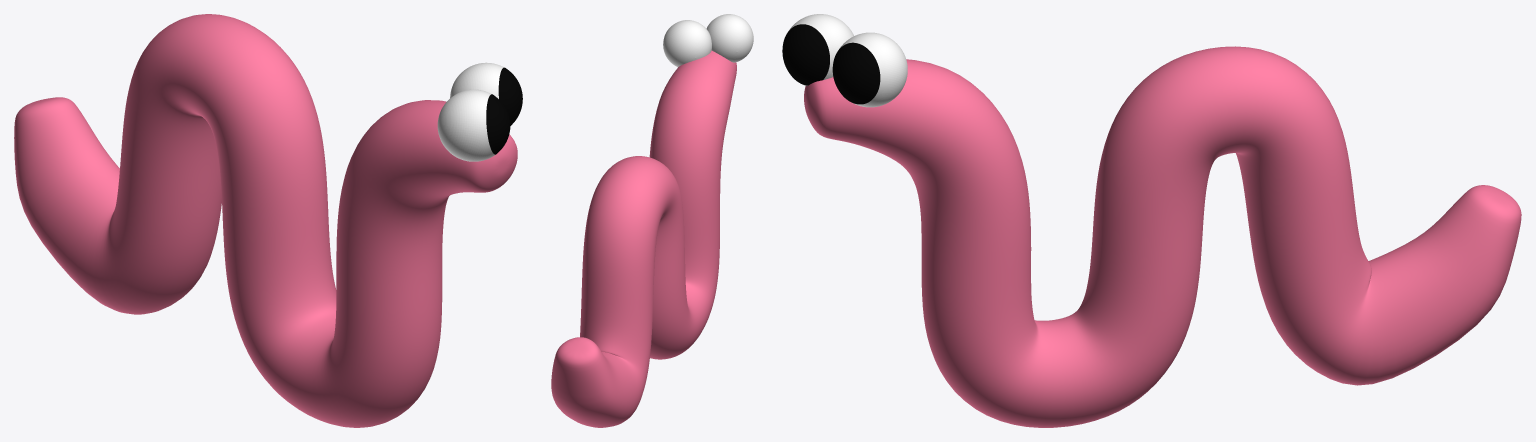
The model's file is vers.fbx.
3 views of the same model, side by side, from view 1: azimuth 30°, elevation 25°; view 2: azimuth 150°, elevation 25°; view 3: azimuth 270°, elevation 25° (orthographic). The views are drawn at different scales.
Visible parts, largest first — view 1: NurbsPath.021, Sphere.004, Sphere.003; view 2: NurbsPath.021, Sphere.004; view 3: NurbsPath.021, Sphere.003, Sphere.004.
Boxes of the visible parts, x1=… form: NurbsPath.021: x1=14, y1=14, x2=517, y2=427; Sphere.004: x1=437, y1=62, x2=504, y2=161; Sphere.003: x1=486, y1=67, x2=522, y2=154; NurbsPath.021: x1=551, y1=50, x2=736, y2=427; Sphere.004: x1=663, y1=14, x2=753, y2=66; NurbsPath.021: x1=804, y1=46, x2=1521, y2=427; Sphere.003: x1=782, y1=24, x2=880, y2=104; Sphere.004: x1=788, y1=14, x2=907, y2=107.
Bounding box in the file's own units: 117 × 216 × 347.
